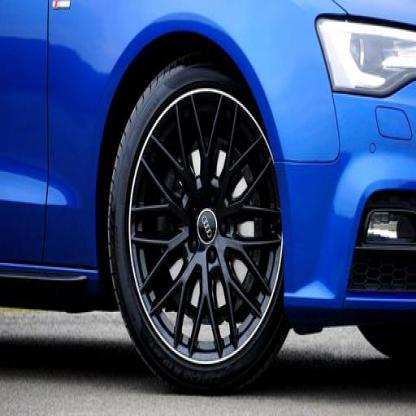Tire: (108, 52, 291, 393)
